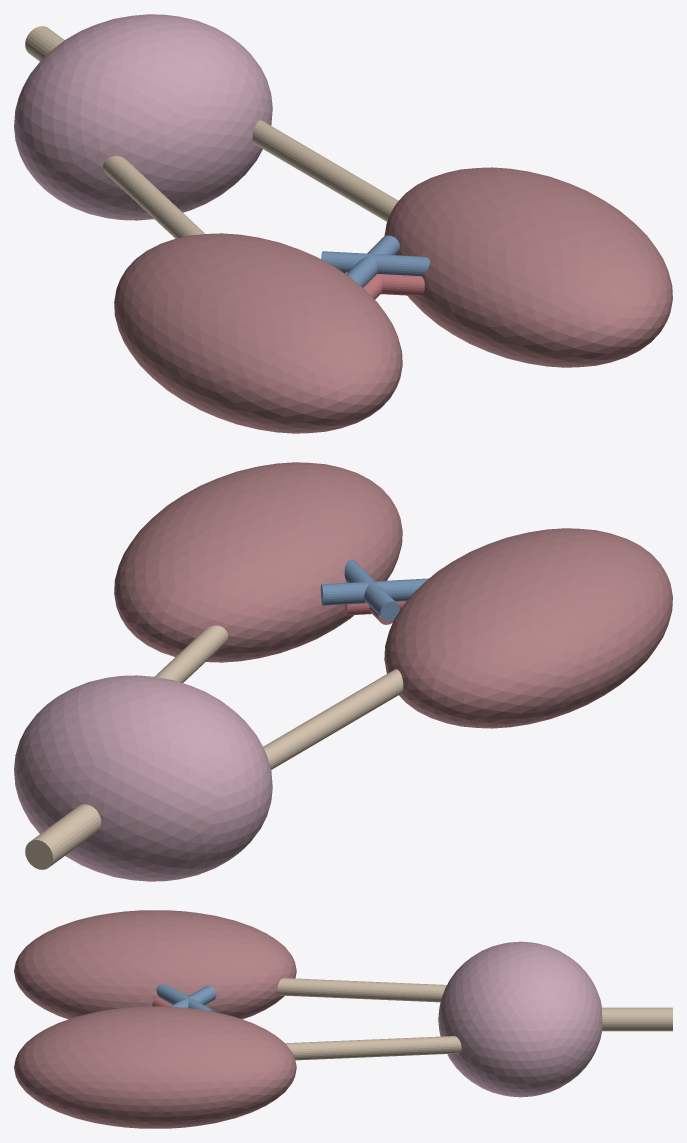
The model's file is urinary-g3-high.glb.
3 views of the same model, one above another, from view 1: azimuth 30°, elevation 25°; view 2: azimuth 150°, elevation 25°; view 3: azimuth 270°, elevation 25° (orthographic). The views are drawn at different scales.
Parts seen in each view (by area): view 1: left_kidney, right_kidney, bladder, right_ureter, left_ureter, right_renal_vein_proxy, left_renal_vein_proxy, right_renal_artery_proxy, urethra_proxy; view 2: left_kidney, right_kidney, bladder, left_ureter, urethra_proxy, right_ureter, left_renal_vein_proxy, right_renal_vein_proxy; view 3: right_kidney, left_kidney, bladder, right_ureter, left_ureter, urethra_proxy, left_renal_vein_proxy, right_renal_vein_proxy.
Part boxes in pixels (<box>): left_kidney: <box>114,233,402,433</box>; right_kidney: <box>384,167,672,367</box>; bladder: <box>14,14,272,220</box>; right_ureter: <box>252,120,398,221</box>; left_ureter: <box>103,156,204,238</box>; right_renal_vein_proxy: <box>321,251,429,276</box>; left_renal_vein_proxy: <box>346,235,399,287</box>; right_renal_artery_proxy: <box>345,272,424,296</box>; urethra_proxy: <box>25,26,64,61</box>; left_kidney: <box>384,528,672,728</box>; right_kidney: <box>114,462,402,662</box>; bladder: <box>14,675,272,881</box>; left_ureter: <box>263,669,403,769</box>; urethra_proxy: <box>25,804,101,869</box>; right_ureter: <box>154,625,227,682</box>; left_renal_vein_proxy: <box>320,578,428,605</box>; right_renal_vein_proxy: <box>344,559,399,621</box>; right_kidney: <box>14,1006,296,1128</box>; left_kidney: <box>14,910,296,1019</box>; bladder: <box>438,941,602,1097</box>; right_ureter: <box>285,1036,461,1060</box>; left_ureter: <box>277,978,446,1002</box>; urethra_proxy: <box>602,1007,672,1031</box>; left_renal_vein_proxy: <box>156,984,214,1011</box>; right_renal_vein_proxy: <box>170,985,216,1007</box>.
Size of the model in its own units: 2.08 by 0.74 by 3.36.
